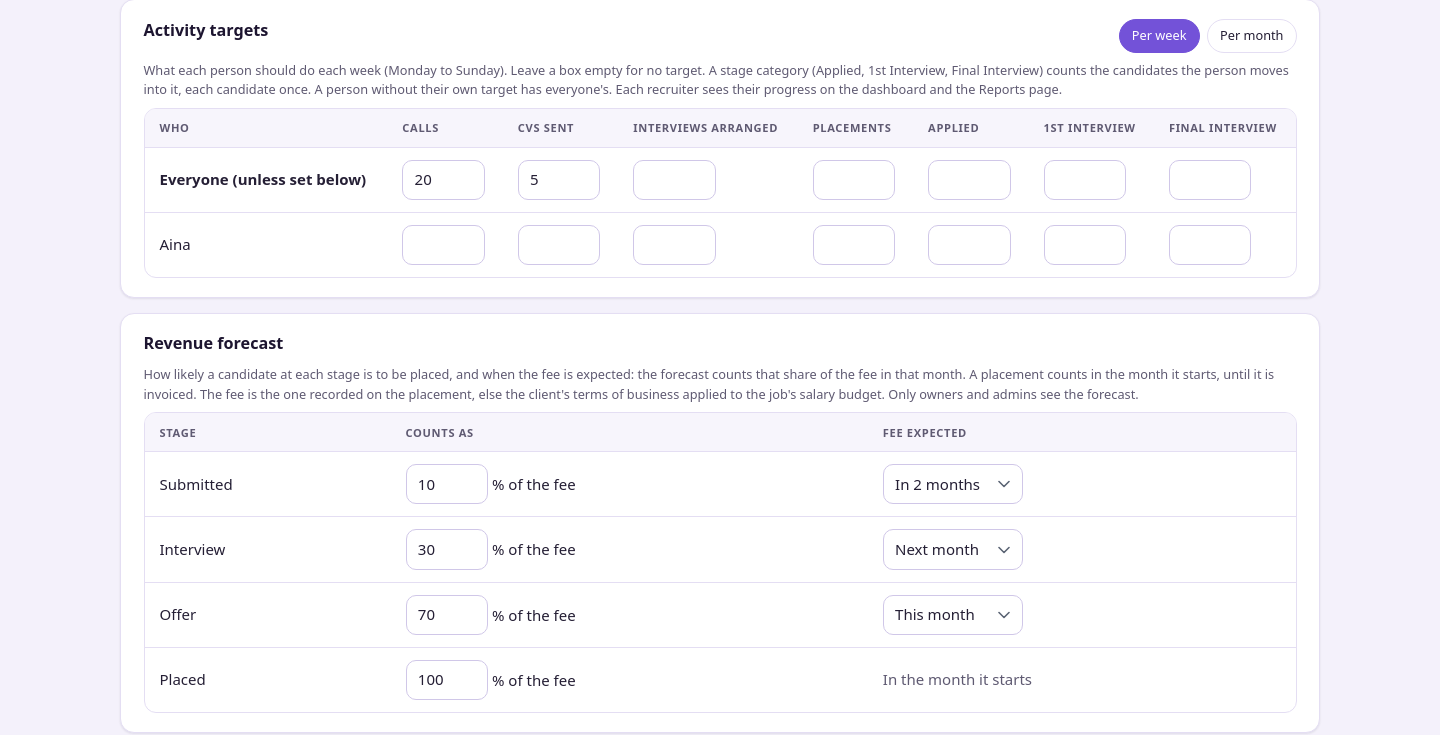
Test: targets and forecast settings › saves a recruiter's own target and the stage weights
The image size is (1440, 735).
Check: the number field named "Everyone (unless set below): Calls per week" holds "20", box [402, 160, 485, 200]
Click the button "Per month": (1252, 36) [1207, 19, 1296, 53]
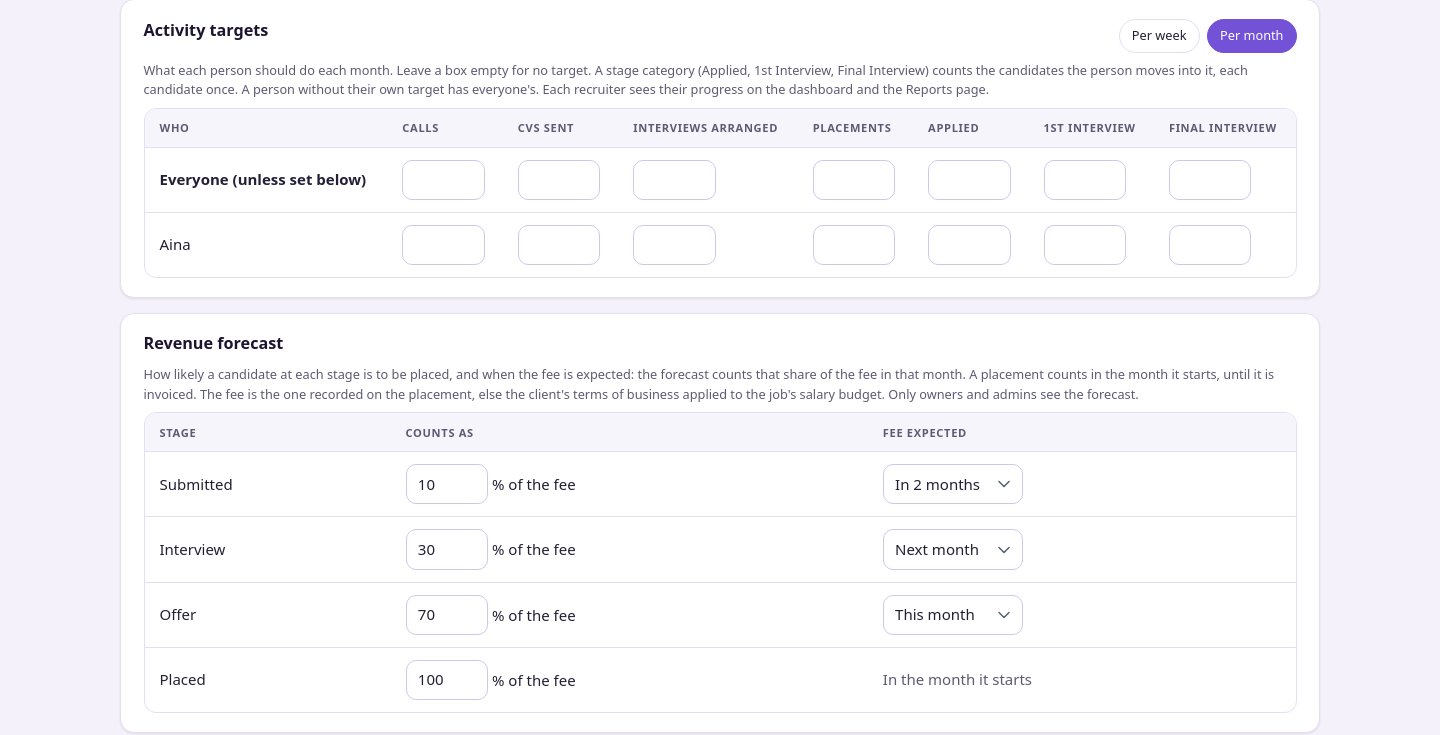
In the number field named "Aina: Placements per month": (854, 245) [813, 225, 895, 265], type "2"
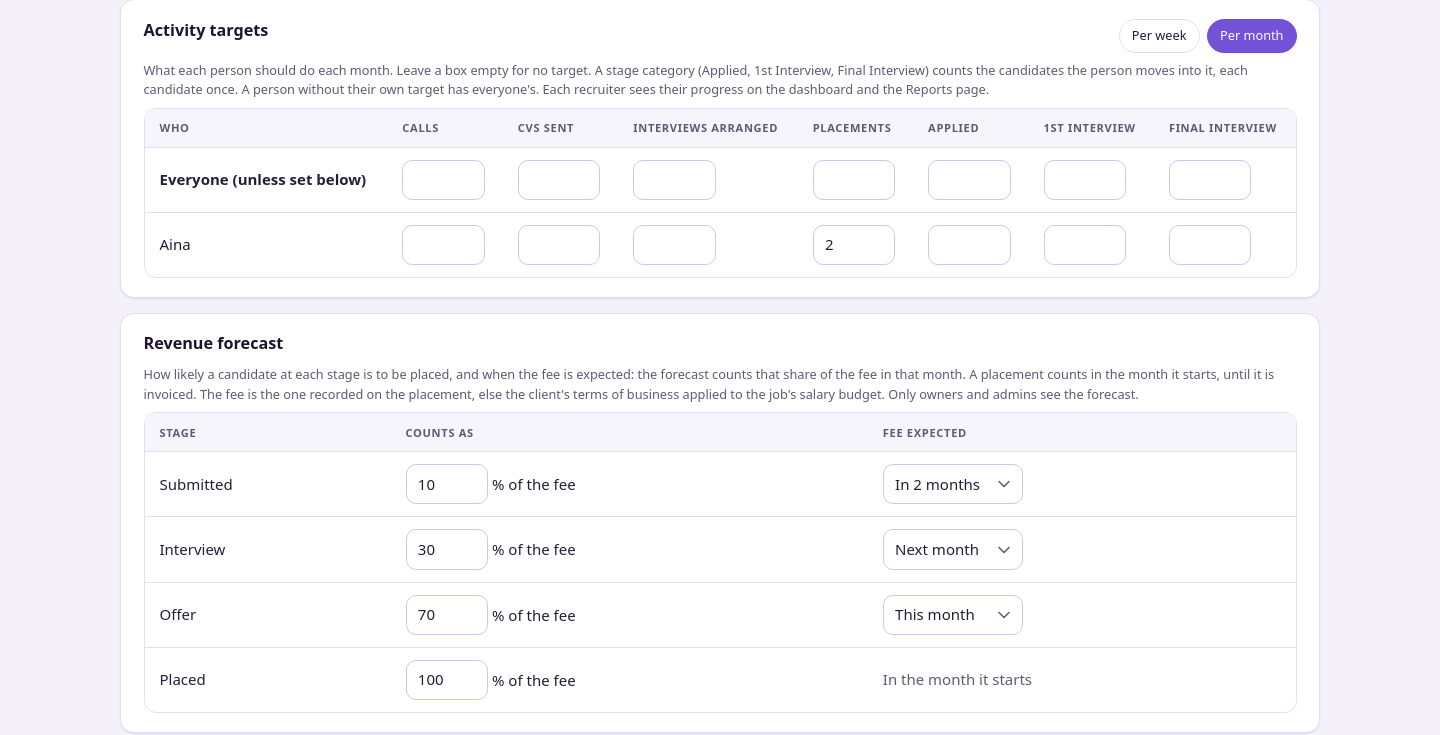
Replace the text in the number field named "Interview: percent of the fee" with "40": (447, 550) [406, 529, 488, 570]
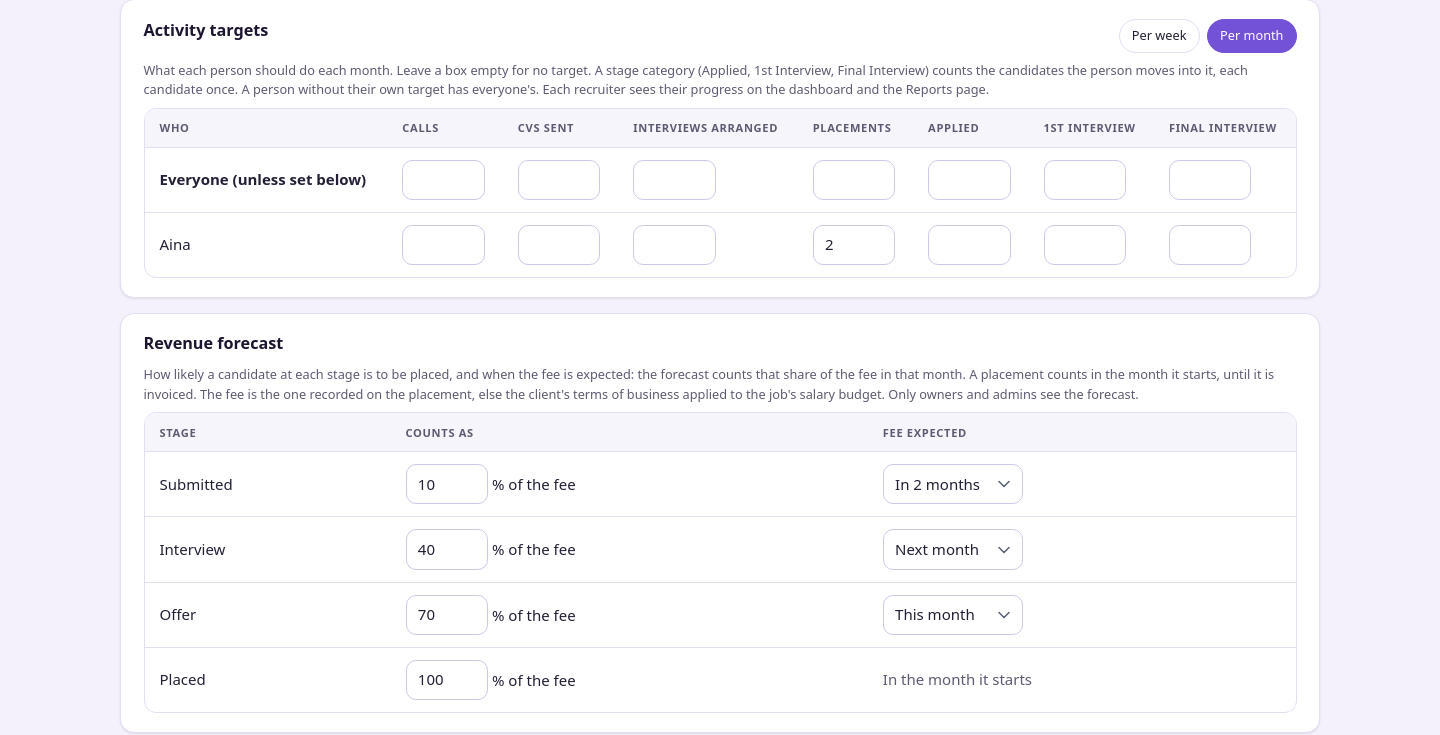
Select "Next month" in the dropdown named "Offer: month the fee is expected": (953, 615) [883, 595, 1023, 635]
(page scrolled)
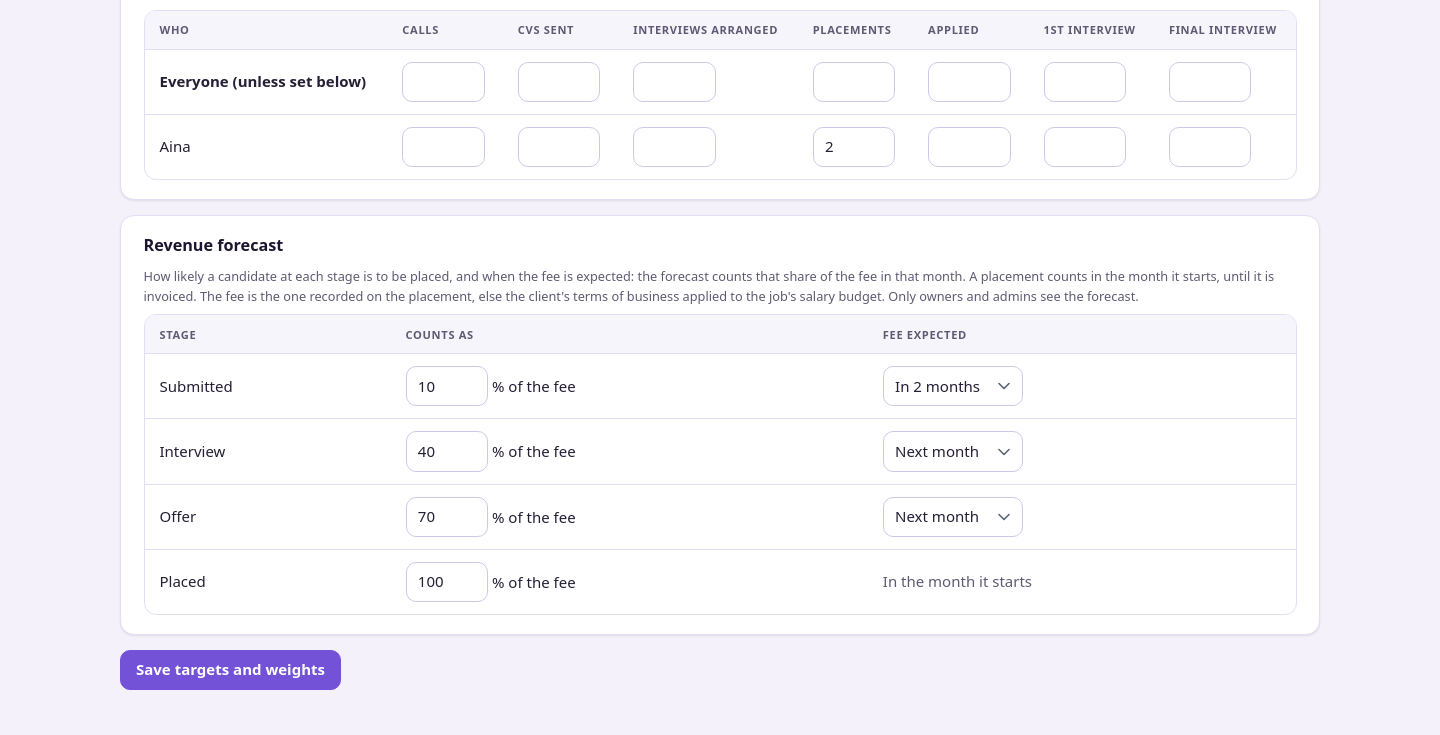
Click the button "Save targets and weights": (230, 670) [120, 650, 341, 690]
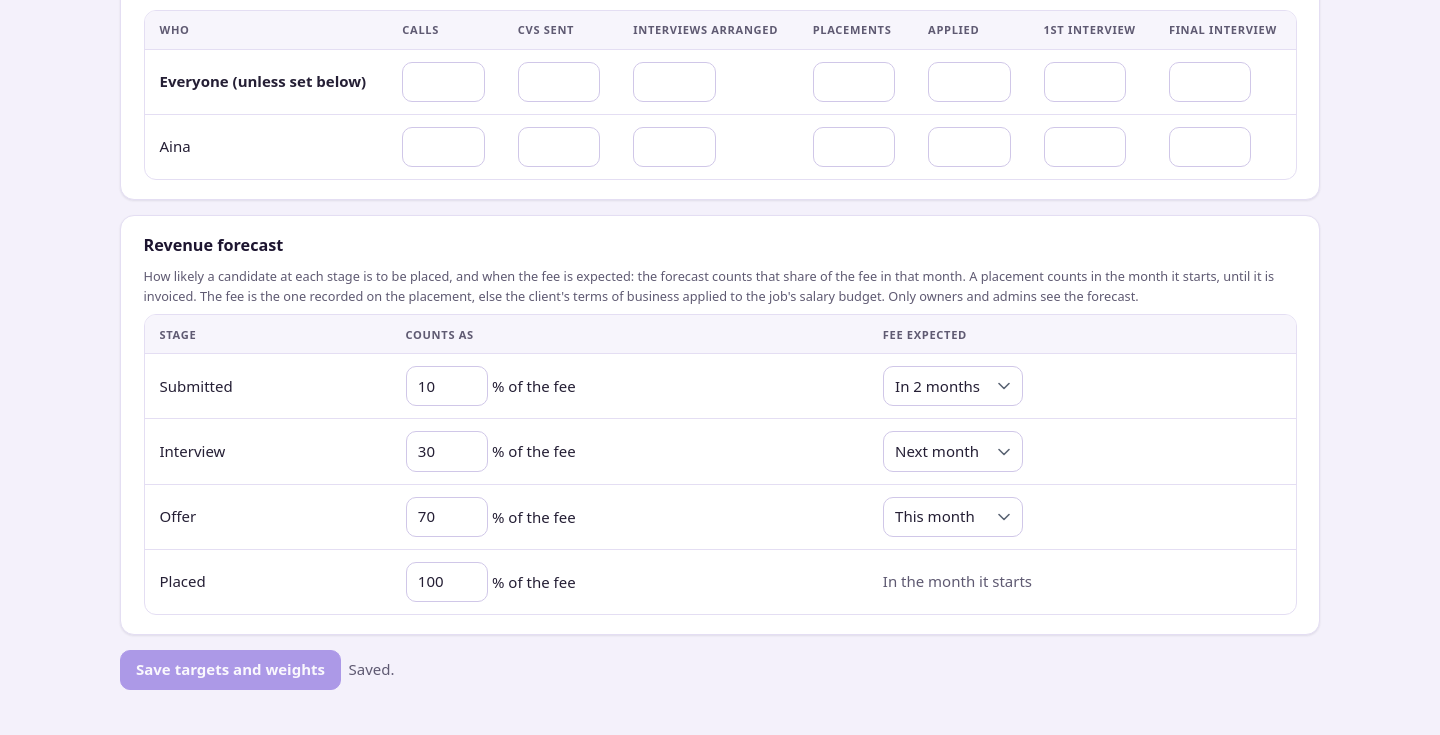
Check: the text "Saved." is shown, box [348, 658, 394, 682]
